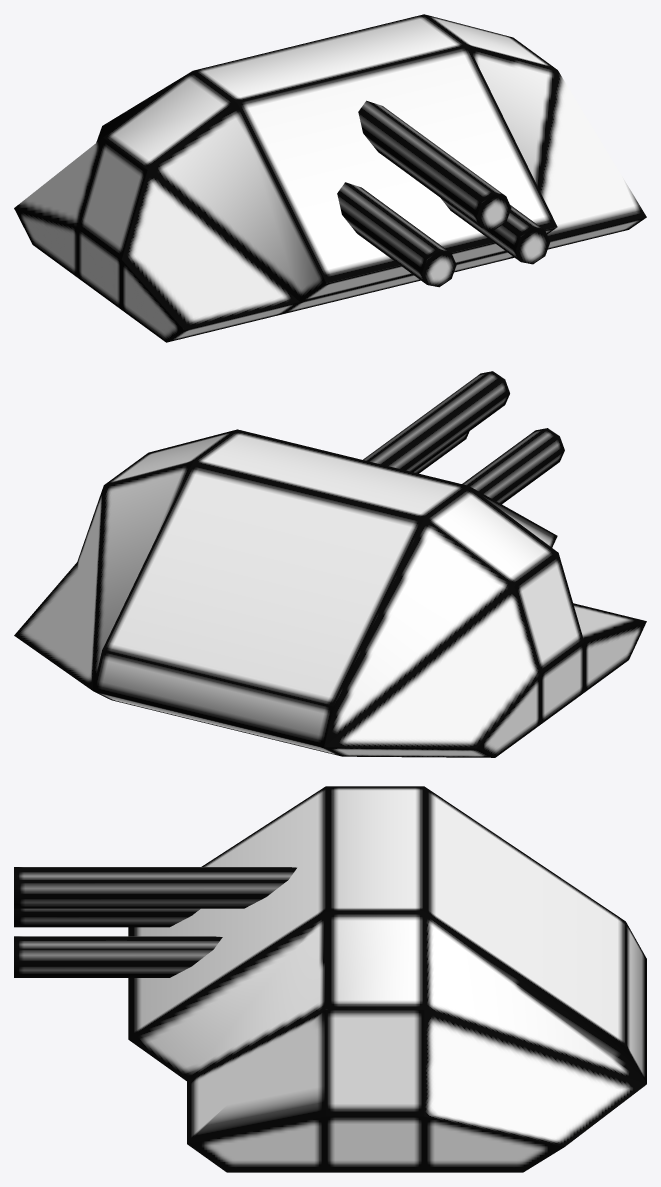
The model's file is Tank3.obj.
3 views of the same model, one above another, from view 1: azimuth 30°, elevation 25°; view 2: azimuth 150°, elevation 25°; view 3: azimuth 270°, elevation 25° (orthographic). The views are drawn at different scales.
Parts seen in each view (by area): view 1: Box15; view 2: Box15; view 3: Box15.
Part boxes in pixels (bbox=[...]): Box15: bbox=[14, 14, 646, 342]; Box15: bbox=[14, 371, 646, 757]; Box15: bbox=[14, 786, 646, 1172].
Bounding box in the file's own units: 4 × 1.48 × 4.27.
1 material, 1 textured.
